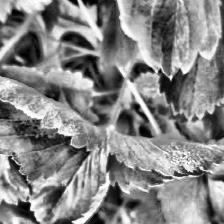Powdery Mildew Leaf: (0, 68, 108, 183), (102, 0, 224, 79), (27, 136, 112, 224), (107, 131, 224, 194)
